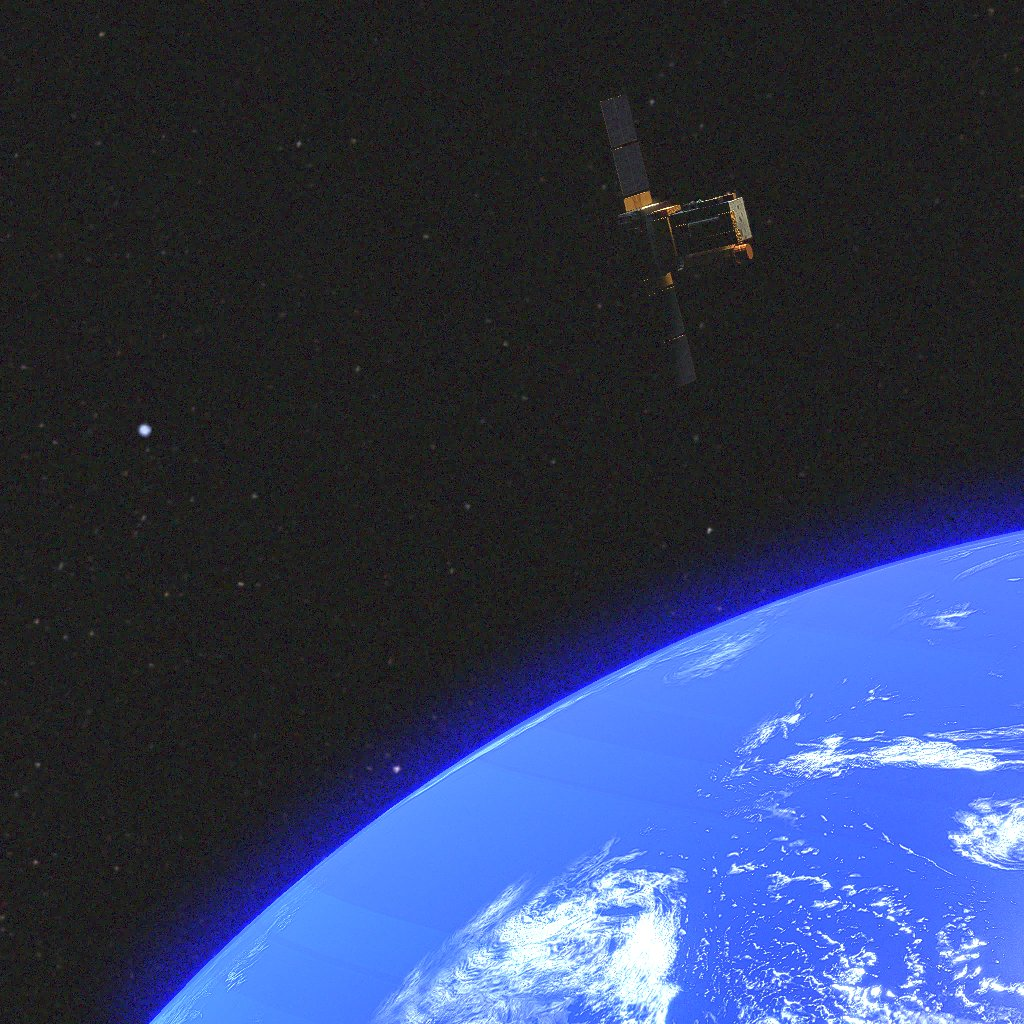soho: (598, 94, 753, 390)
